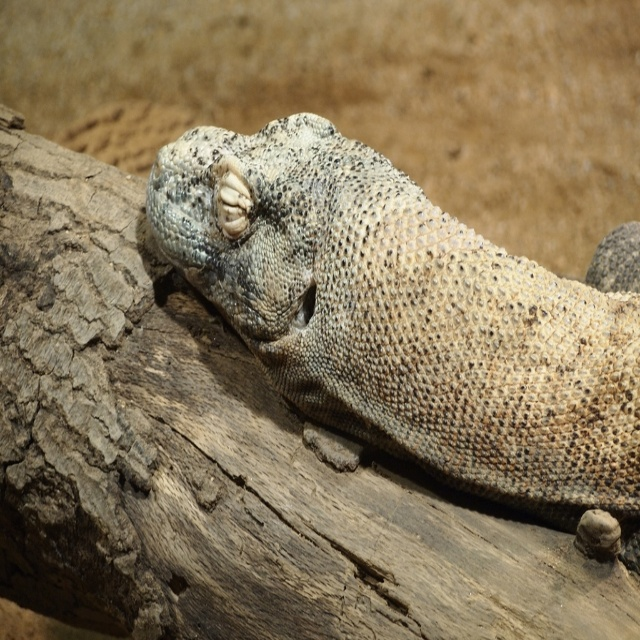Lizard: (145, 110, 634, 585)
